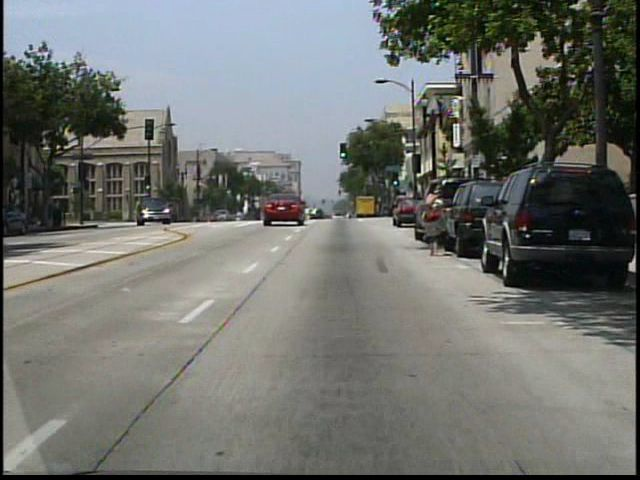person: (416, 182, 453, 258)
